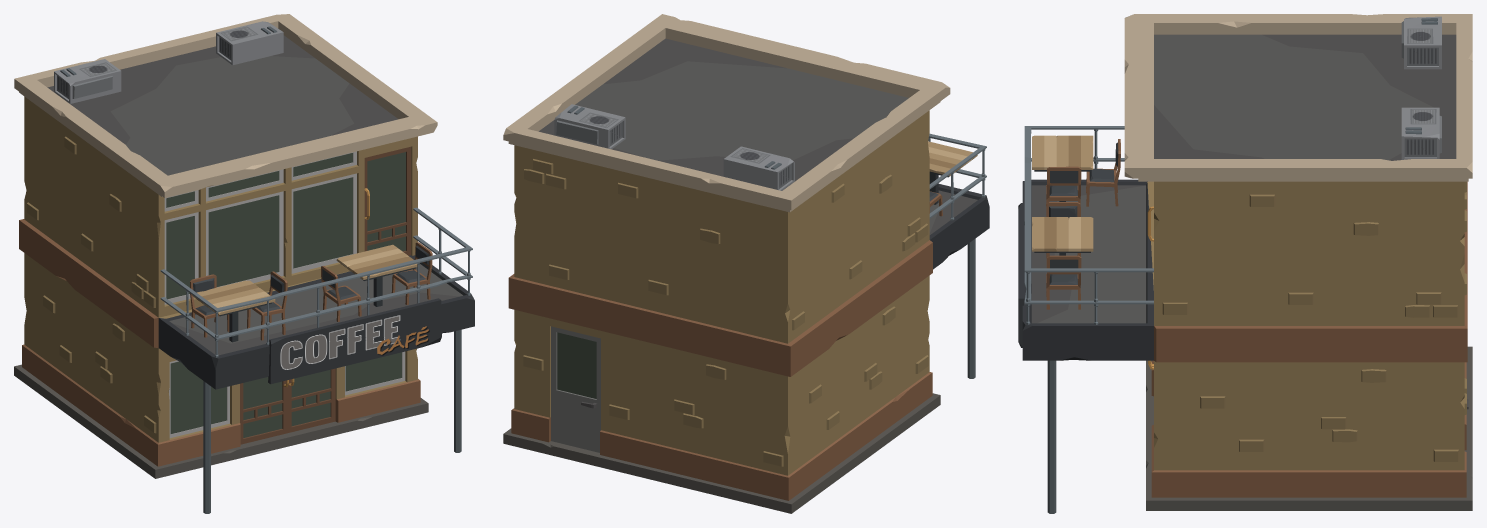
The model's file is building-normal.glb.
3 views of the same model, side by side, from view 1: azimuth 30°, elevation 25°; view 2: azimuth 150°, elevation 25°; view 3: azimuth 270°, elevation 25° (orthographic). The views are drawn at different scales.
Parts seen in each view (by area): view 1: SM_Bld_Cafe_01, SM_Bld_Cafe_Sign_01, SM_Bld_Cafe_Tables_01, SM_Bld_Cafe_Door_03, SM_Bld_Cafe_Door_01, SM_Bld_Cafe_Door_02; view 2: SM_Bld_Cafe_01, SM_Bld_Cafe_Door_04, SM_Bld_Cafe_Tables_01; view 3: SM_Bld_Cafe_01, SM_Bld_Cafe_Tables_01, SM_Bld_Cafe_Sign_01.
Boxes of the visible parts, left/top/right/bottom form: SM_Bld_Cafe_01: left=14, top=14, right=474, bottom=513; SM_Bld_Cafe_Sign_01: left=268, top=298, right=441, bottom=384; SM_Bld_Cafe_Tables_01: left=190, top=242, right=432, bottom=342; SM_Bld_Cafe_Door_03: left=364, top=146, right=411, bottom=255; SM_Bld_Cafe_Door_01: left=240, top=377, right=288, bottom=444; SM_Bld_Cafe_Door_02: left=287, top=368, right=335, bottom=433; SM_Bld_Cafe_01: left=503, top=14, right=989, bottom=513; SM_Bld_Cafe_Door_04: left=551, top=326, right=600, bottom=452; SM_Bld_Cafe_Tables_01: left=928, top=141, right=977, bottom=216; SM_Bld_Cafe_01: left=1022, top=14, right=1472, bottom=513; SM_Bld_Cafe_Tables_01: left=1032, top=135, right=1120, bottom=309; SM_Bld_Cafe_Sign_01: left=1018, top=203, right=1023, bottom=347.
Bounding box in the file's own units: 5.8 × 6.4 × 7.23.
Materials: 3 (3 with a texture image).
